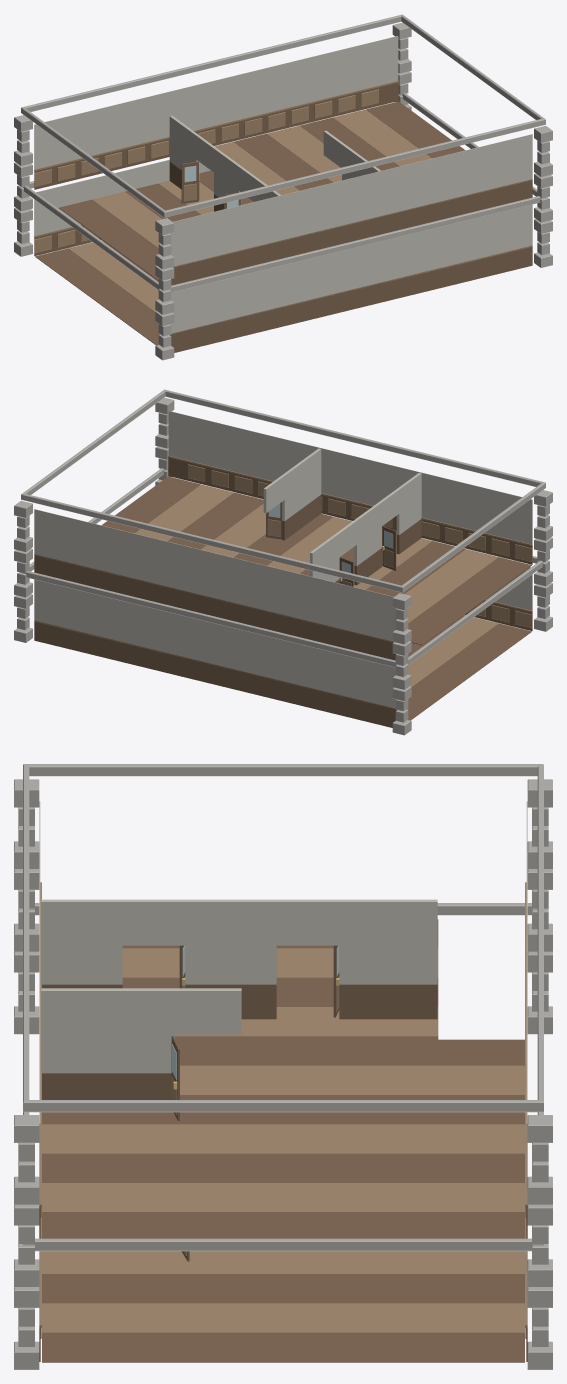
File: sf_pro_dorm_arch_trim.glb
The picture shows the model from 3 angles, top to bottom: view 1: azimuth 30°, elevation 25°; view 2: azimuth 150°, elevation 25°; view 3: azimuth 270°, elevation 25°; orthographic projection. The views are drawn at different scales.
Visible parts, largest first — view 1: ProDormArchPure3D_Root; view 2: ProDormArchPure3D_Root; view 3: ProDormArchPure3D_Root.
Part boxes in pixels (x1=…): ProDormArchPure3D_Root: x1=14, y1=14, x2=552, y2=360; ProDormArchPure3D_Root: x1=14, y1=389, x2=552, y2=735; ProDormArchPure3D_Root: x1=14, y1=764, x2=552, y2=1369.
Bounding box in the file's own units: 23.4 × 8.52 × 15.4.
